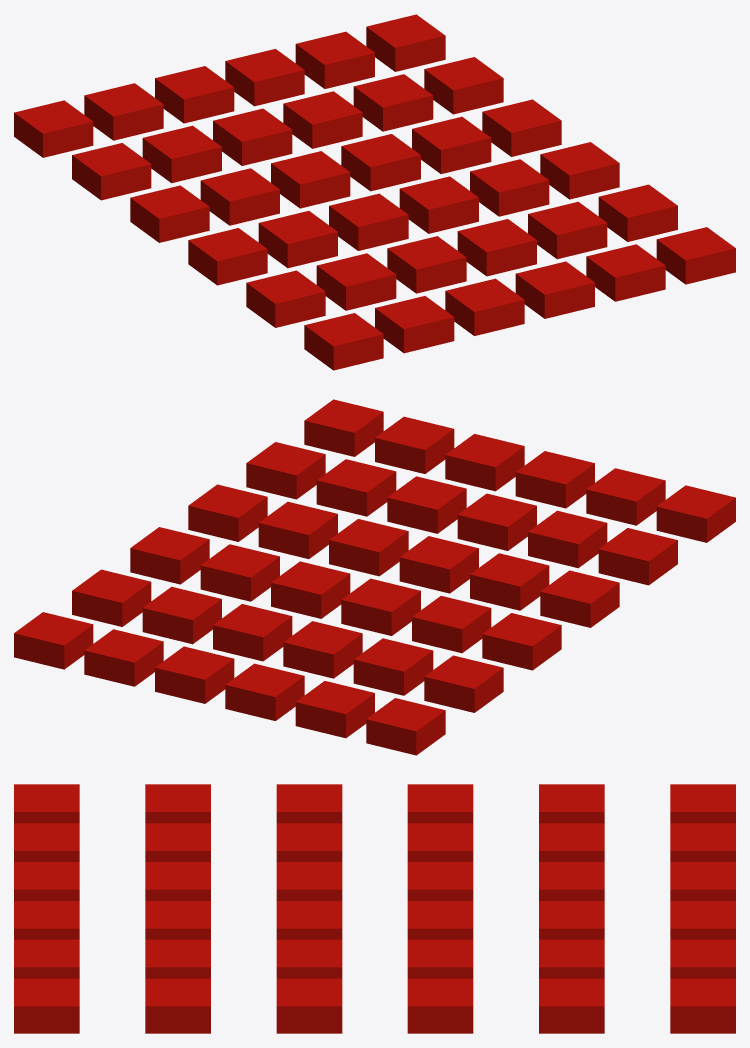
Rendered from SM_Obstacle.fbx.
The picture shows the model from 3 angles, top to bottom: view 1: azimuth 30°, elevation 25°; view 2: azimuth 150°, elevation 25°; view 3: azimuth 270°, elevation 25°; orthographic projection. The views are drawn at different scales.
Parts seen in each view (by area): view 1: Cube.070; view 2: Cube.070; view 3: Cube.070.
Boxes of the visible parts, x1,y1,x2,y2 form: Cube.070: (14, 14, 735, 370); Cube.070: (14, 399, 735, 755); Cube.070: (14, 784, 735, 1033).
Bounding box in the file's own units: 125 × 7.14 × 171.
